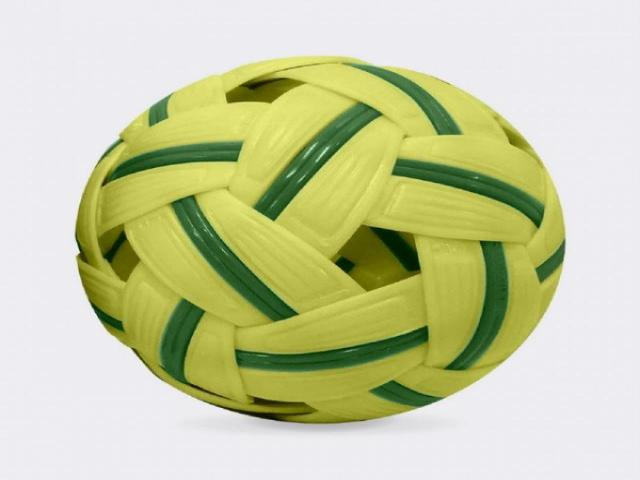round ball: (76, 58, 565, 421)
